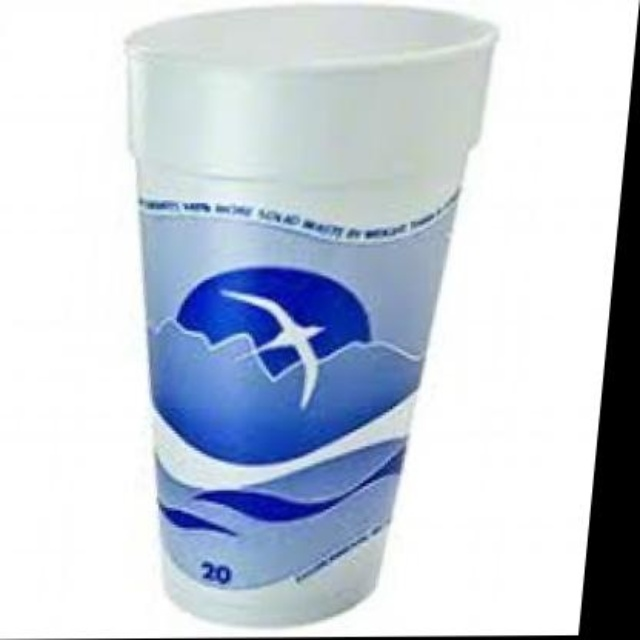trash: (126, 5, 495, 623)
